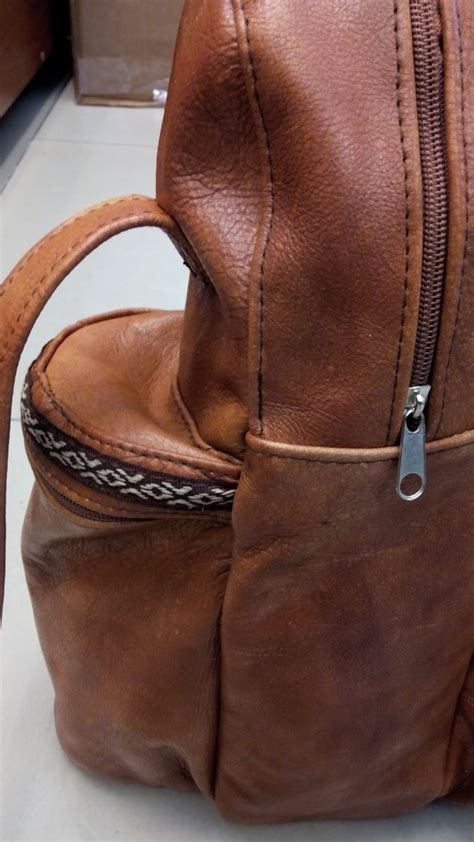cuero: (6, 3, 474, 822)
